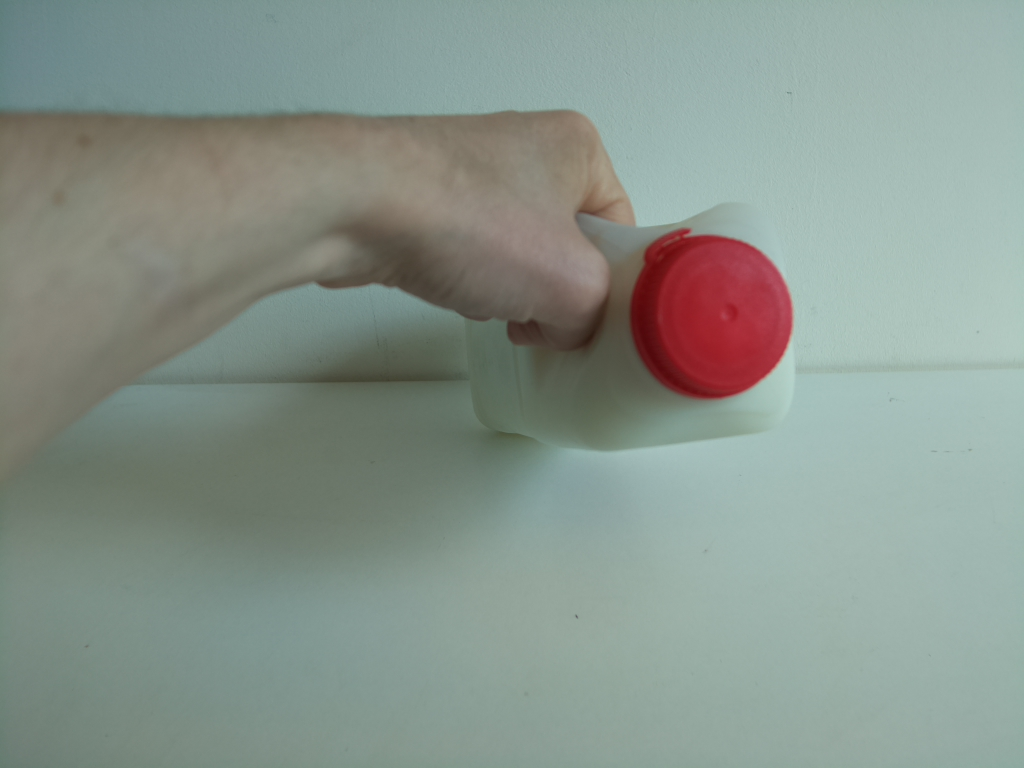milk: (459, 196, 803, 461)
